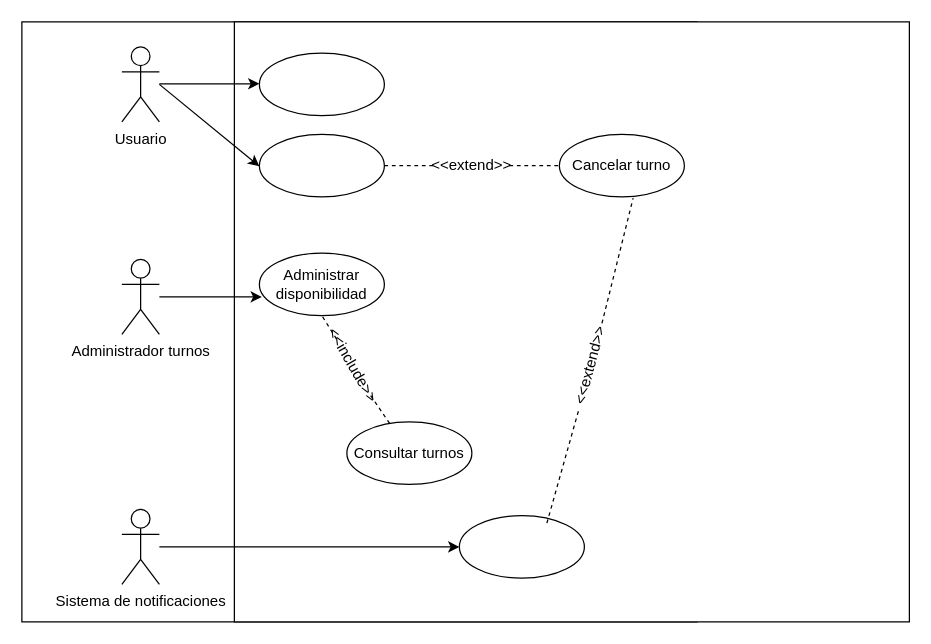
Image size: 931x644. Some labels were removed from this diagram. Each missing label, with the centre of its shape:
"Notificar usuario" goes at pixel 521 546.
"Solicitar turno" goes at pixel 321 165.
"Ver estado de turno" goes at pixel 321 84.
